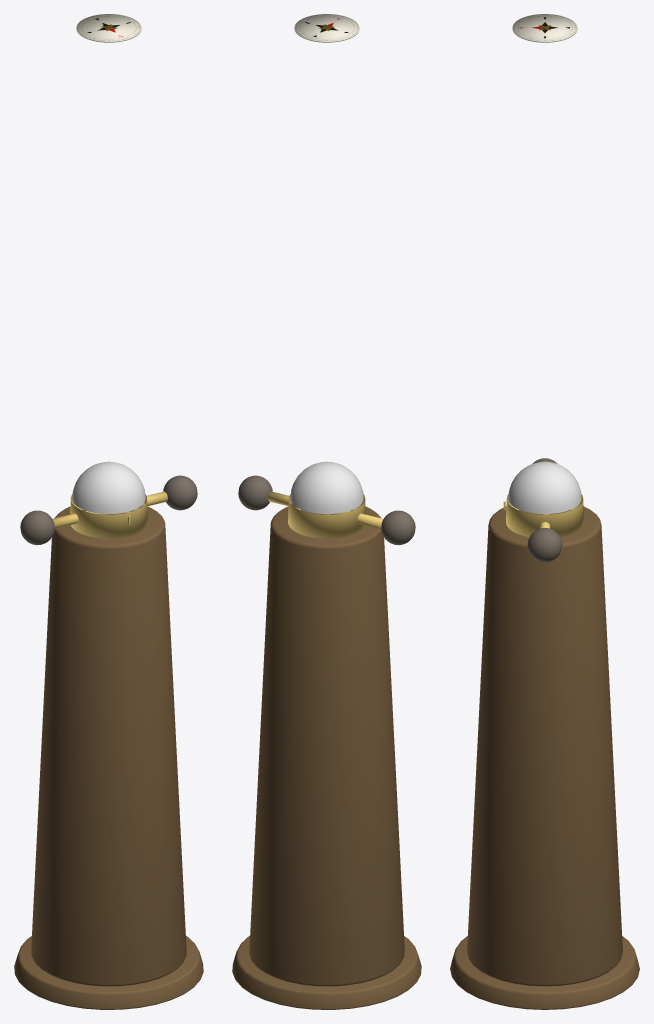
The model's file is MagneticCompass_v1.1.fbx.
3 renders of one model, left to right at view 1: azimuth 30°, elevation 25°; view 2: azimuth 150°, elevation 25°; view 3: azimuth 270°, elevation 25°, orthographic.
Visible parts, largest first — view 1: compass_pedestal, compass_base, glass_dome, compass_bowl, compass_card, kelvin_ball_left, kelvin_ball_right; view 2: compass_pedestal, compass_base, glass_dome, compass_bowl, compass_card, kelvin_ball_left, kelvin_ball_right; view 3: compass_pedestal, compass_base, glass_dome, compass_bowl, compass_card, kelvin_ball_right.
Part boxes in pixels (<box>): compass_pedestal: <box>31,506,186,986</box>; compass_base: <box>14,936,203,1009</box>; glass_dome: <box>72,461,145,514</box>; compass_bowl: <box>70,494,147,538</box>; compass_card: <box>76,14,141,42</box>; kelvin_ball_left: <box>20,510,54,545</box>; kelvin_ball_right: <box>163,475,197,510</box>; compass_pedestal: <box>249,506,404,986</box>; compass_base: <box>232,936,421,1009</box>; glass_dome: <box>290,461,363,514</box>; compass_bowl: <box>288,494,365,538</box>; compass_card: <box>294,14,359,42</box>; kelvin_ball_left: <box>381,510,415,545</box>; kelvin_ball_right: <box>238,475,272,510</box>; compass_pedestal: <box>467,506,622,986</box>; compass_base: <box>450,936,639,1009</box>; glass_dome: <box>508,461,581,513</box>; compass_bowl: <box>506,494,583,537</box>; compass_card: <box>512,14,577,42</box>; kelvin_ball_right: <box>527,528,562,562</box>.
Bounding box in the file's own units: 0.46 × 2.4 × 0.4373.
5 materials, 1 textured.
